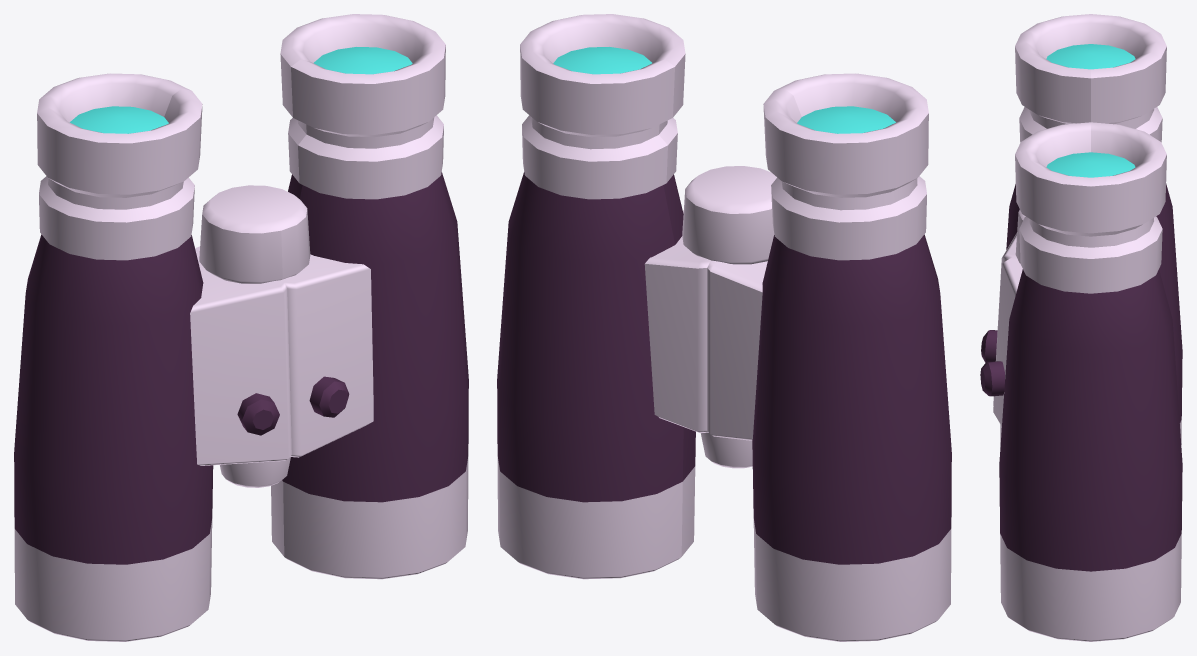
File: Binocular.fbx
The picture shows the model from 3 angles, left to right: view 1: azimuth 30°, elevation 25°; view 2: azimuth 150°, elevation 25°; view 3: azimuth 270°, elevation 25°; orthographic projection. The views are drawn at different scales.
Visible parts, largest first — view 1: Binoculars:Binoculars_0; view 2: Binoculars:Binoculars_0; view 3: Binoculars:Binoculars_0.
Boxes of the visible parts, bbox=[...] form: Binoculars:Binoculars_0: bbox=[14, 14, 468, 641]; Binoculars:Binoculars_0: bbox=[497, 14, 951, 641]; Binoculars:Binoculars_0: bbox=[980, 14, 1182, 641].
Bounding box in the file's own units: 0.8359 × 0.9239 × 0.3743.
